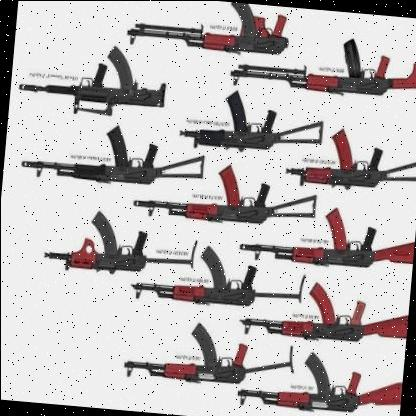rifle: (224, 27, 416, 109), (17, 113, 208, 195), (118, 315, 296, 396), (130, 163, 318, 235), (130, 236, 305, 313), (15, 34, 170, 119), (245, 201, 416, 275), (240, 339, 404, 416), (250, 269, 410, 346), (36, 201, 197, 276), (178, 84, 326, 158), (127, 0, 293, 57), (287, 129, 416, 202)
